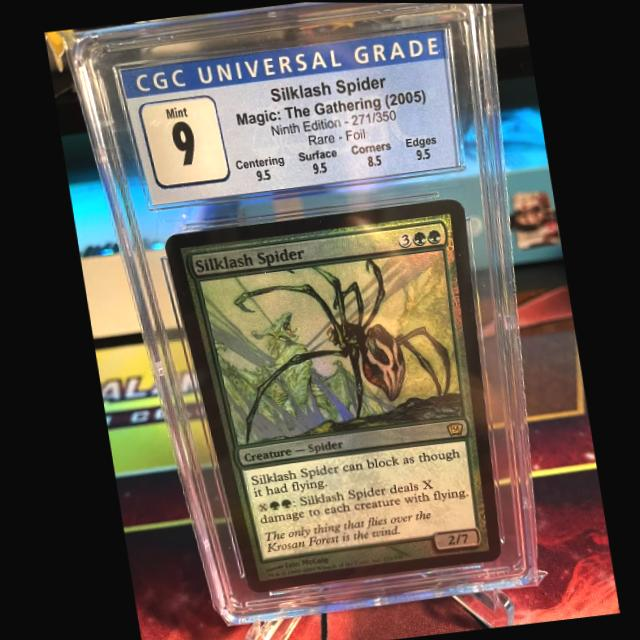card: (160, 195, 498, 594)
cgc_label_old: (119, 28, 458, 205)
cgc_slab: (63, 2, 533, 625)
